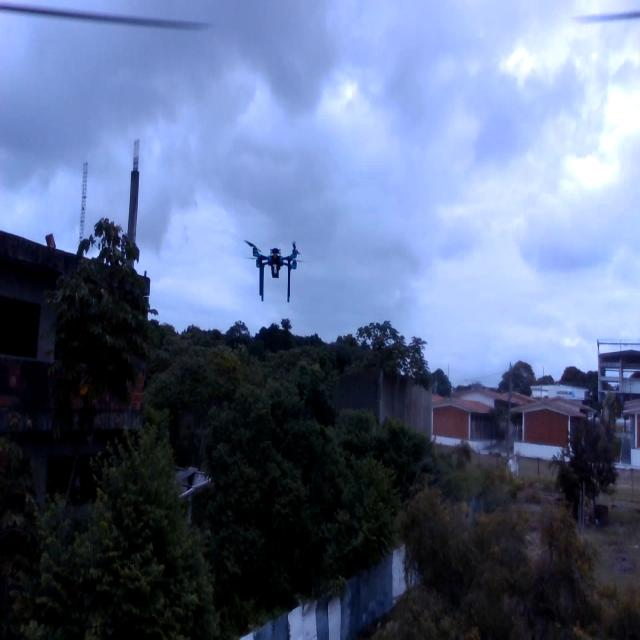-uav-: (238, 231, 308, 320)
